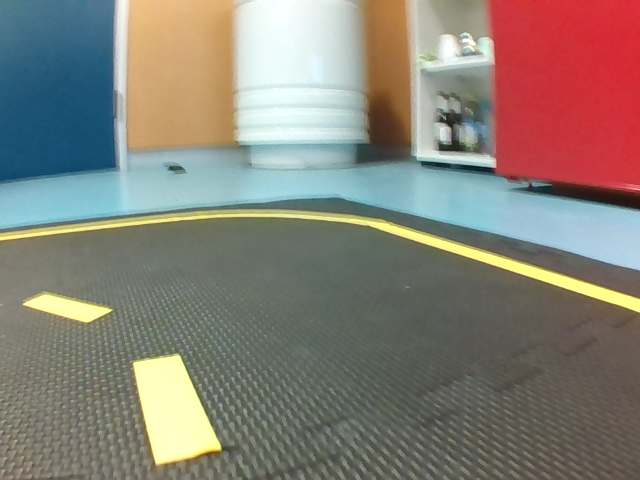stop: (582, 79, 640, 156), (91, 105, 118, 136)
